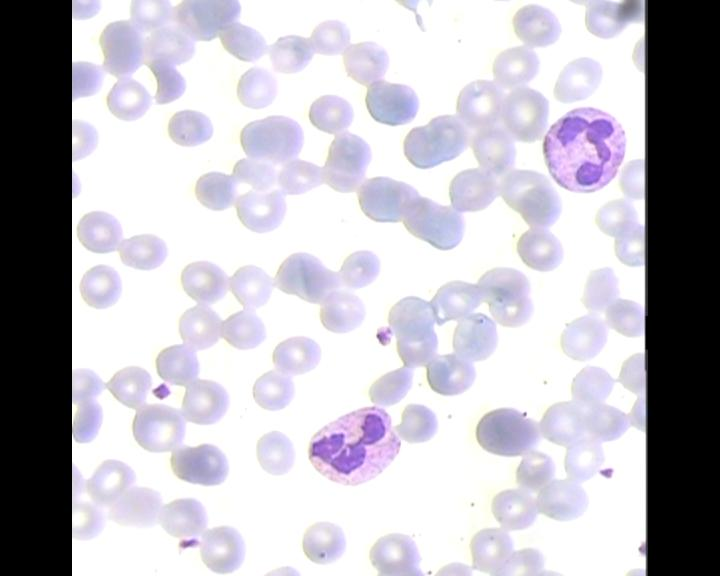neut: (302, 402, 404, 491), (540, 104, 631, 195)
